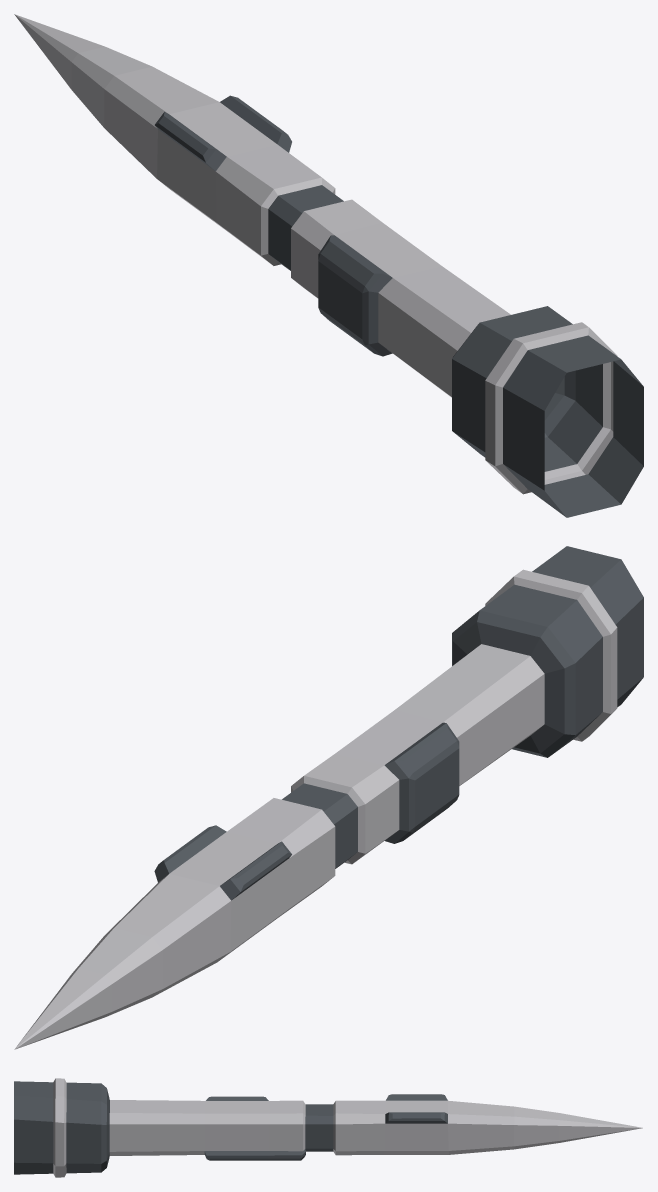
Rendered from Mothership_02_Tip.fbx.
3 views of the same model, one above another, from view 1: azimuth 30°, elevation 25°; view 2: azimuth 150°, elevation 25°; view 3: azimuth 270°, elevation 25° (orthographic). The views are drawn at different scales.
Visible parts, largest first — view 1: Mothership_02_Tip; view 2: Mothership_02_Tip; view 3: Mothership_02_Tip.
Part boxes in pixels (<box>): Mothership_02_Tip: <box>14,14,643,517</box>; Mothership_02_Tip: <box>14,546,643,1049</box>; Mothership_02_Tip: <box>14,1078,642,1177</box>.
Bounding box in the file's own units: 283 × 324 × 2257.
1 material, 1 textured.
